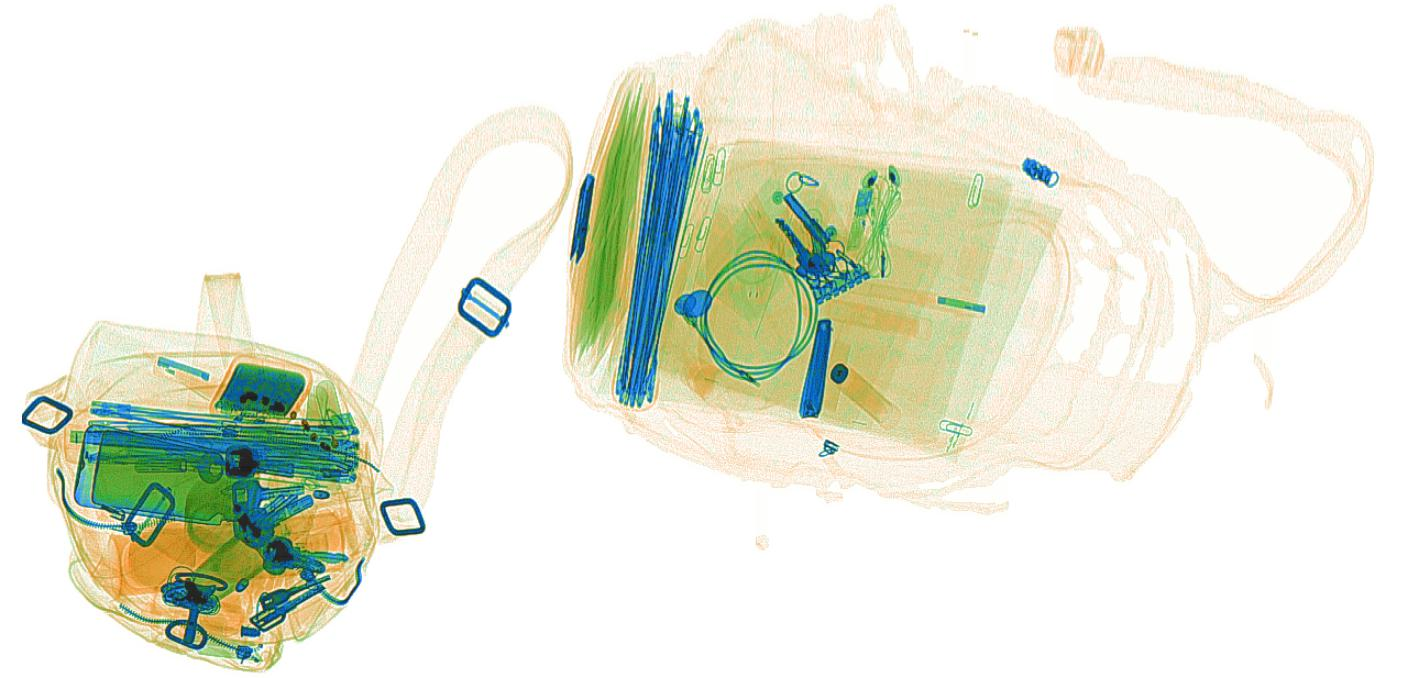USBFlashDisk: (845, 183, 874, 252)
